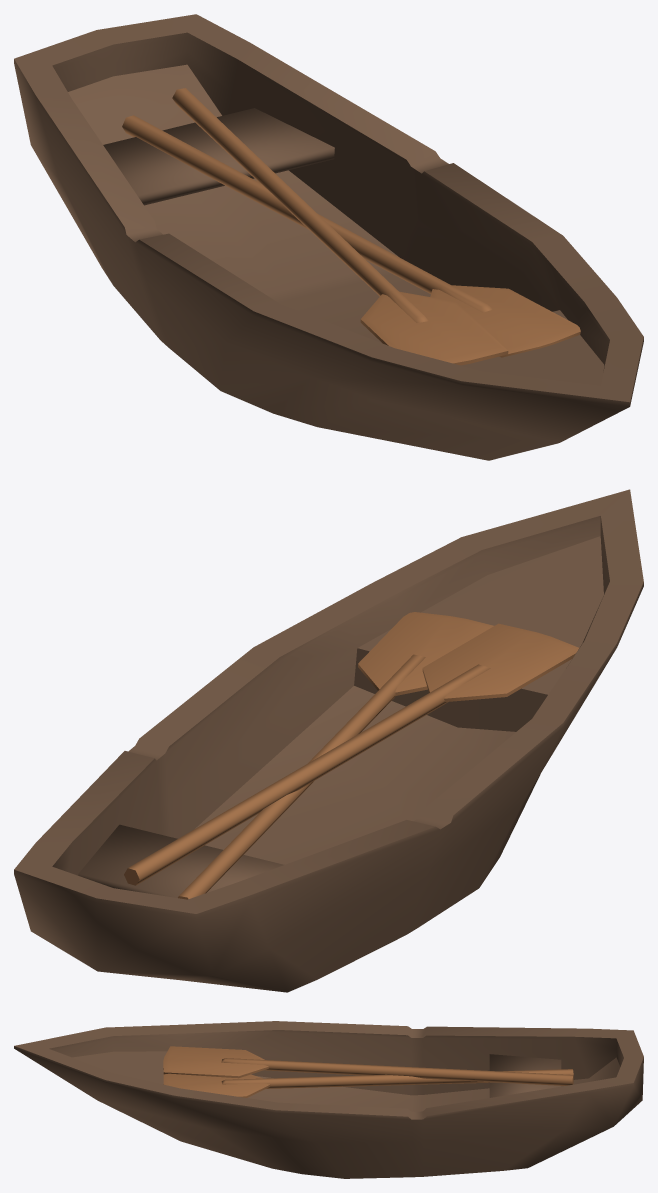
The model's file is SM_SmallBoat_wOars.fbx.
3 views of the same model, one above another, from view 1: azimuth 30°, elevation 25°; view 2: azimuth 150°, elevation 25°; view 3: azimuth 270°, elevation 25° (orthographic). The views are drawn at different scales.
Parts seen in each view (by area): view 1: SM_Boat, SM_Oar_002, SM_Oar_001; view 2: SM_Boat, SM_Oar_002, SM_Oar_001; view 3: SM_Boat, SM_Oar_002, SM_Oar_001.
Boxes of the visible parts, left/top/right/bottom form: SM_Boat: left=14, top=14, right=643, bottom=460; SM_Oar_002: left=172, top=88, right=508, bottom=365; SM_Oar_001: left=122, top=115, right=580, bottom=357; SM_Boat: left=14, top=489, right=643, bottom=992; SM_Oar_002: left=124, top=623, right=578, bottom=885; SM_Oar_001: left=178, top=612, right=493, bottom=899; SM_Boat: left=14, top=1021, right=643, bottom=1178; SM_Oar_002: left=163, top=1046, right=573, bottom=1085; SM_Oar_001: left=163, top=1069, right=573, bottom=1097.
Bounding box in the file's own units: 138 × 405 × 70.85.
